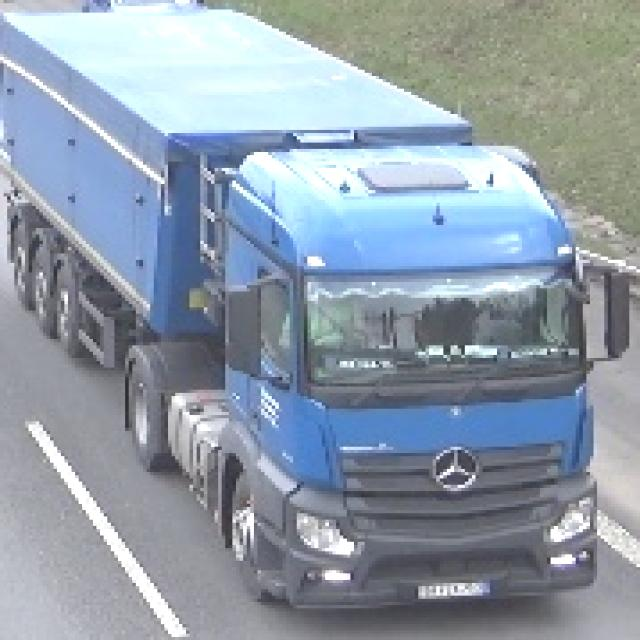TRUCK: (0, 5, 610, 607)
